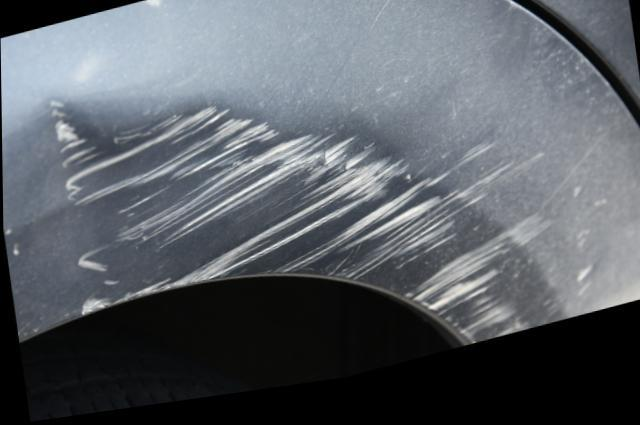dent: (2, 95, 249, 301)
rub: (75, 121, 545, 360)
